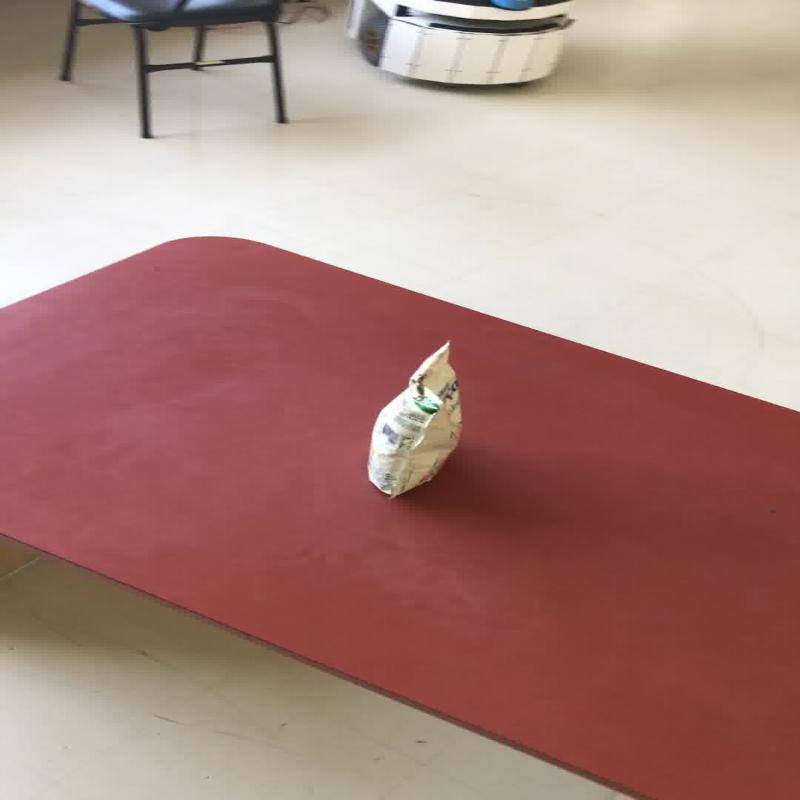corn flakes: (364, 339, 463, 499)
